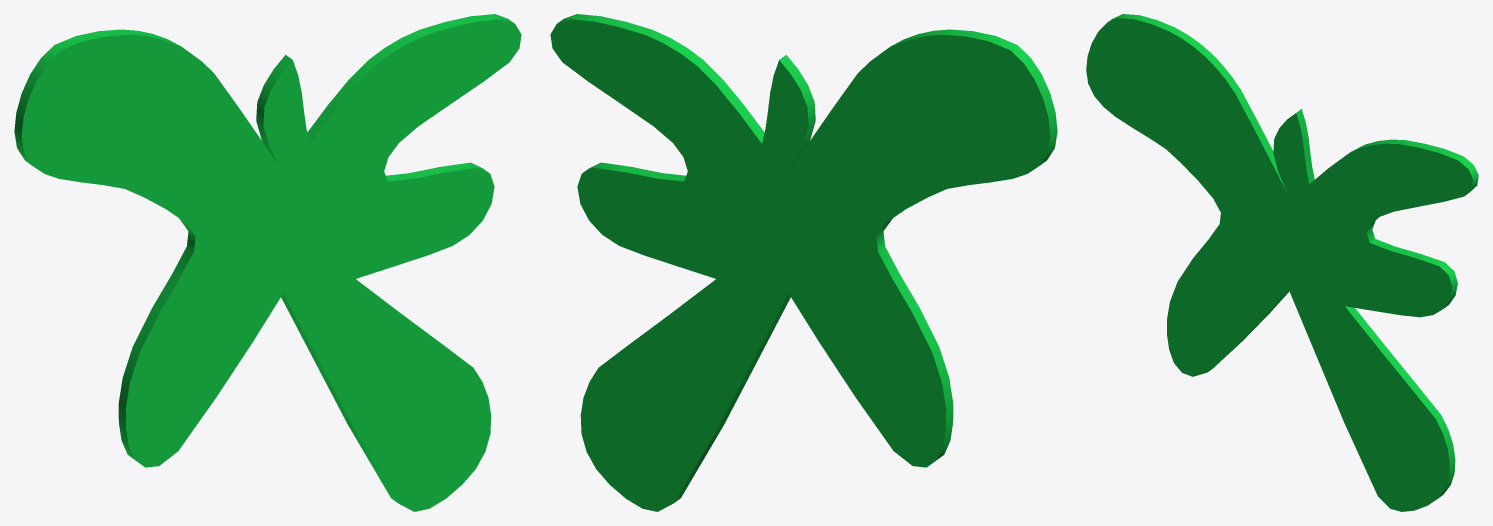
The model's file is splat.fbx.
The picture shows the model from 3 angles, left to right: view 1: azimuth 30°, elevation 25°; view 2: azimuth 150°, elevation 25°; view 3: azimuth 330°, elevation 25°; orthographic projection. The views are drawn at different scales.
Parts seen in each view (by area): view 1: root; view 2: root; view 3: root.
Part boxes in pixels (<box>): root: <box>14,14,521,511</box>; root: <box>550,14,1057,511</box>; root: <box>1086,14,1478,511</box>.
Size of the model in its own units: 0.204 by 0.2153 by 0.00507.
